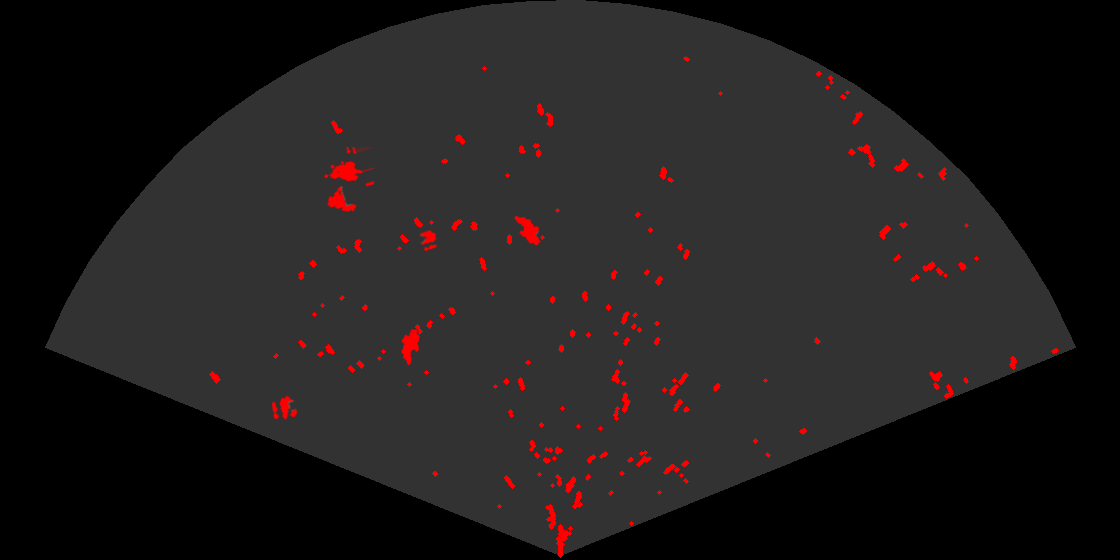AUV: (513, 214, 542, 247), (400, 327, 422, 367)
ball: (270, 394, 299, 421), (418, 228, 439, 253)
cage: (322, 147, 374, 213)
